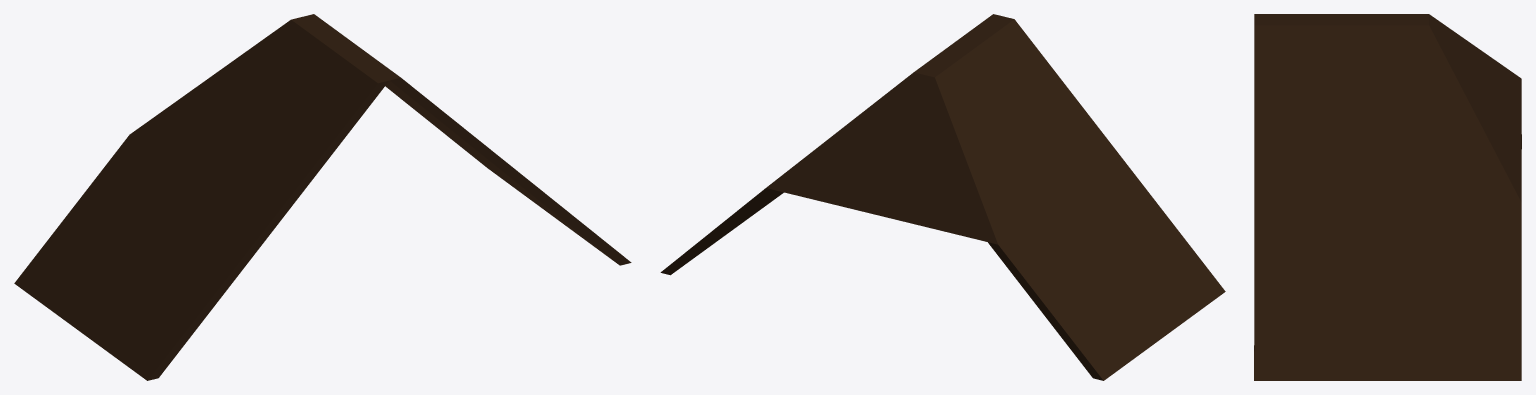
File: RoofEdgeV2_DP_1110.fbx
3 views of the same model, side by side, from view 1: azimuth 30°, elevation 25°; view 2: azimuth 150°, elevation 25°; view 3: azimuth 270°, elevation 25° (orthographic). The views are drawn at different scales.
Visible parts, largest first — view 1: Roof.043; view 2: Roof.043; view 3: Roof.043.
Part boxes in pixels (x1,y1,x2,y2): Roof.043: [14, 14, 631, 380]; Roof.043: [660, 14, 1225, 380]; Roof.043: [1254, 14, 1521, 380].
Size of the model in its own units: 840 by 400 by 400.
